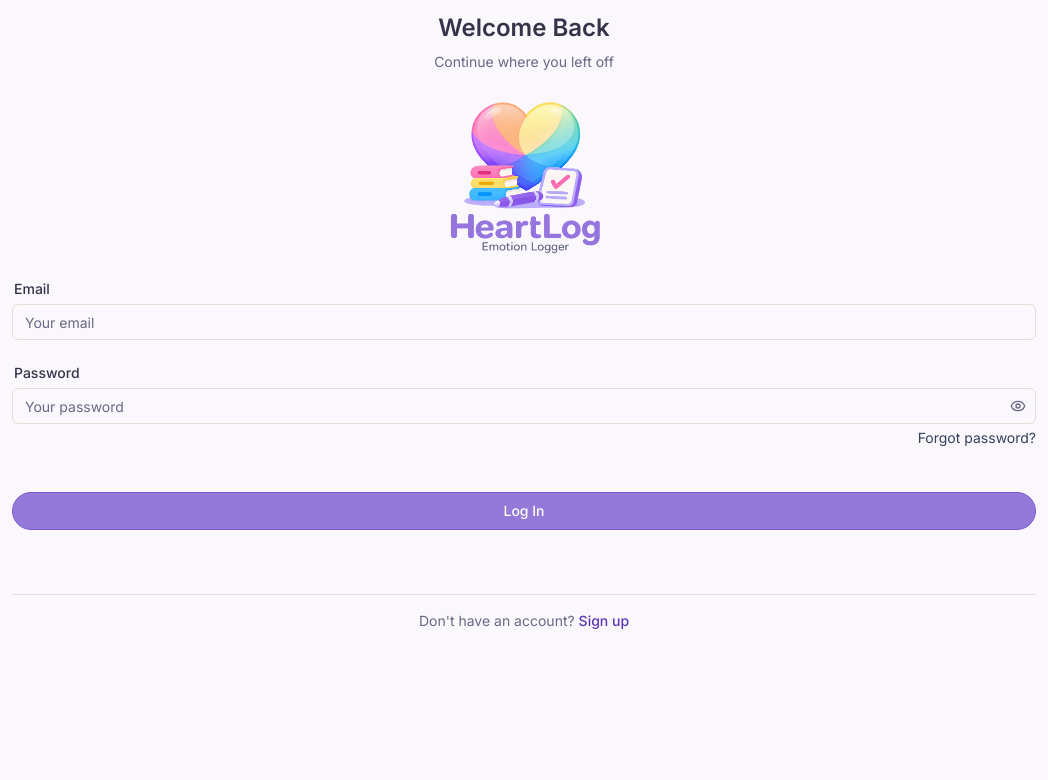
Scenario: LoginForm › shows an invalid-login error when the API rejects the submitted credentials
This screenshot has width=1048, height=780.
Step 1. Type "user@example.com" into the field labelled "Email" → (524, 322), box [12,304,1036,340]
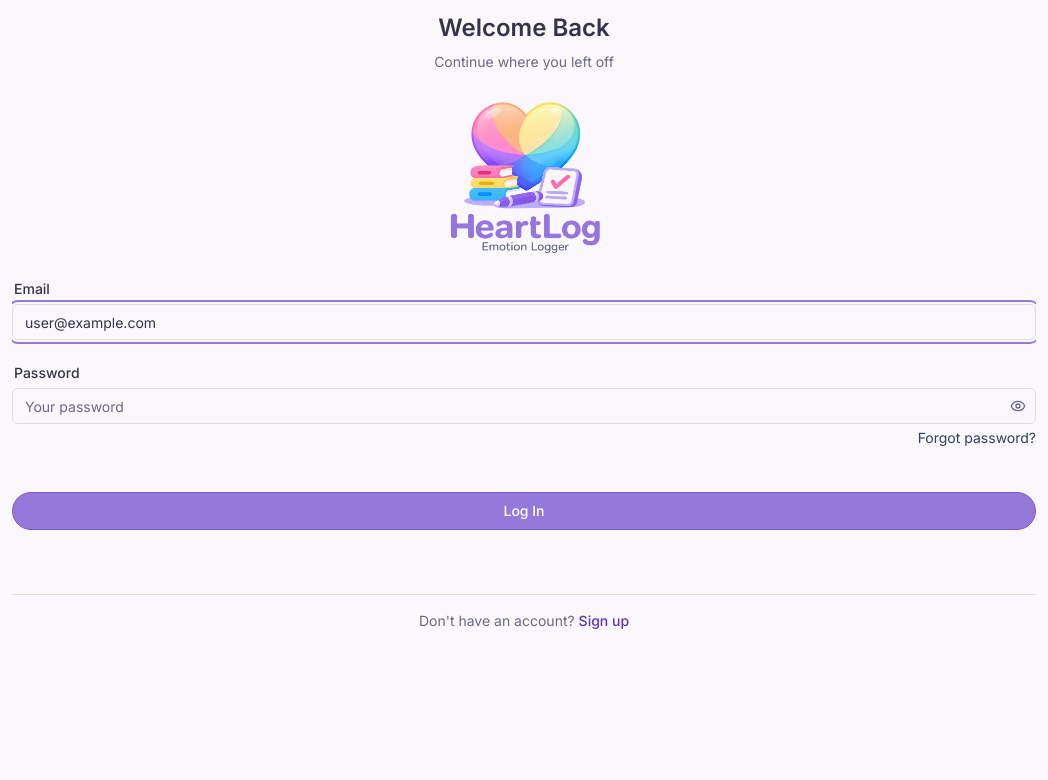
Step 2. Type "wrong-password" into the password field labelled "Password" → (524, 406), box [12,388,1036,424]
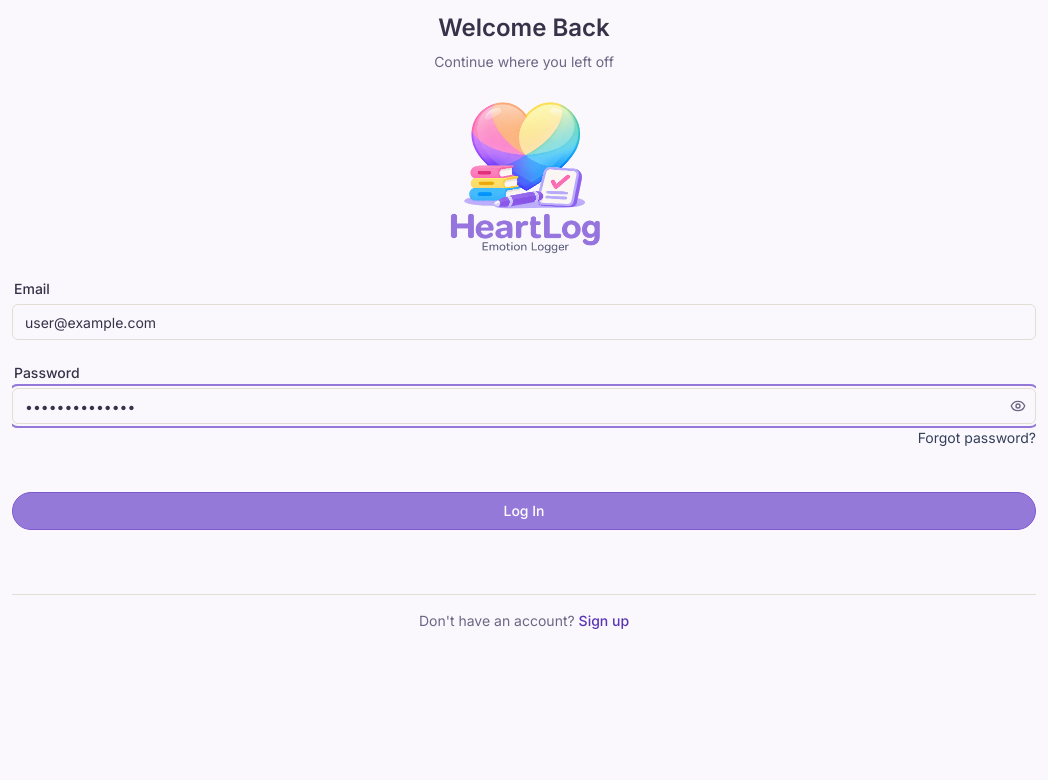
Step 3. Click the button "Log In" → (524, 511), box [12,492,1036,530]
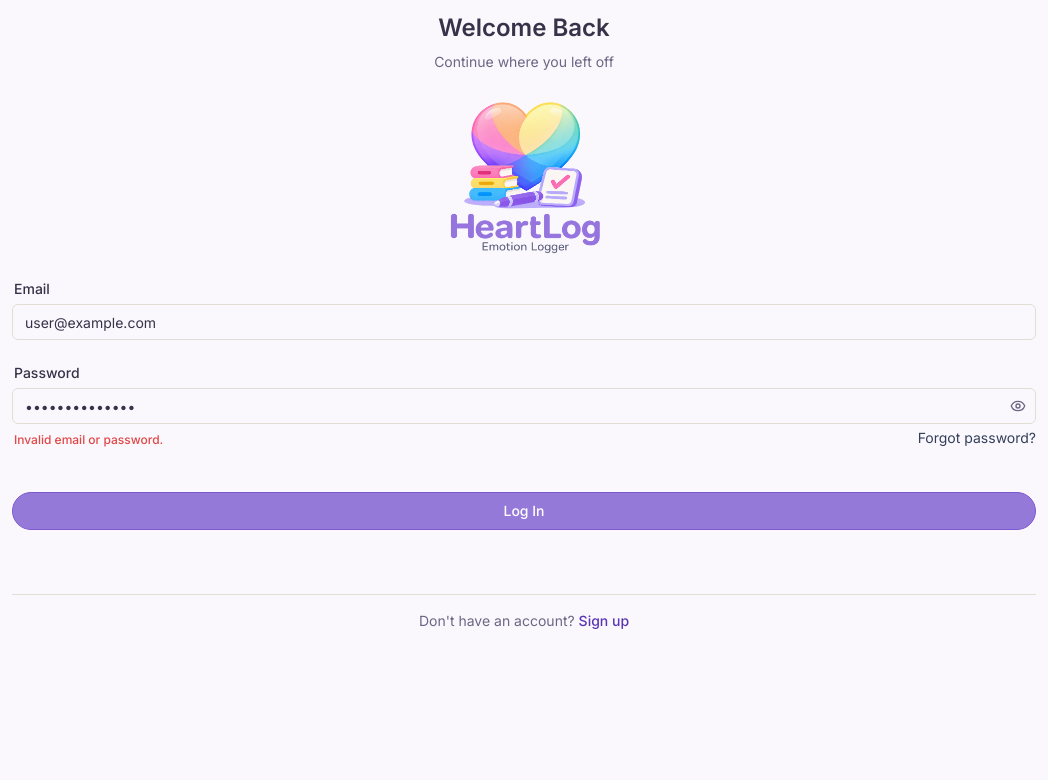
expect the text "Invalid email or password." is shown: met, box [14,432,163,447]
